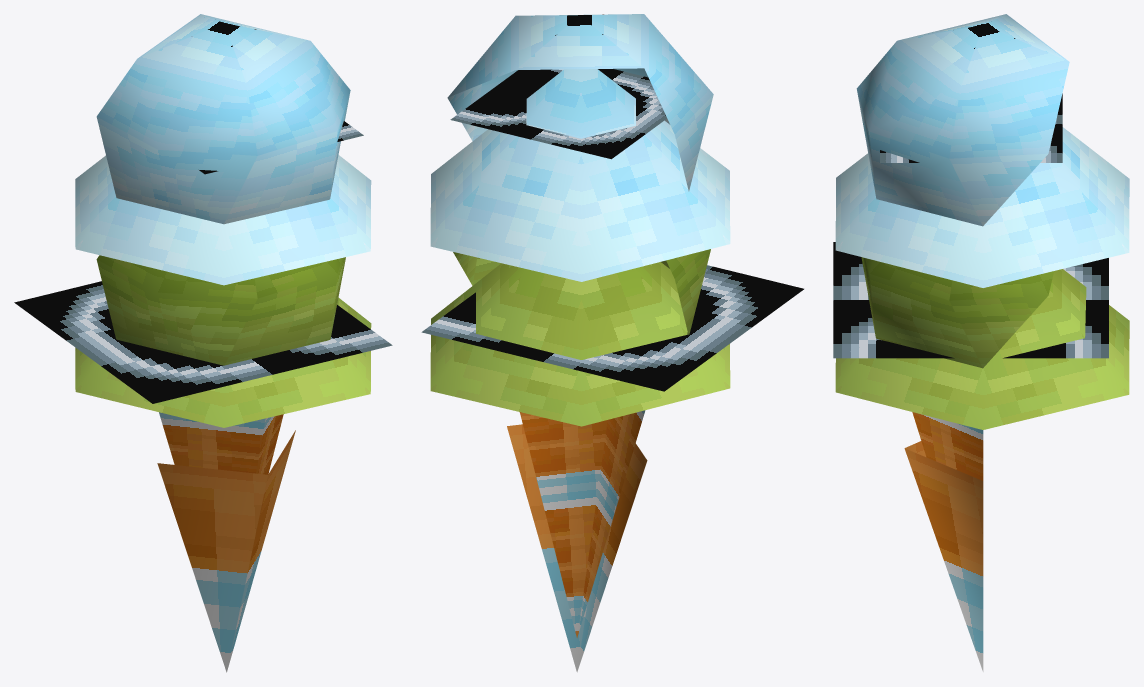
The picture shows the model from 3 angles, left to right: view 1: azimuth 30°, elevation 25°; view 2: azimuth 150°, elevation 25°; view 3: azimuth 270°, elevation 25°; orthographic projection.
Parts seen in each view (by area): view 1: 5619u_ice00_hs; view 2: 5619u_ice00_hs; view 3: 5619u_ice00_hs.
Boxes of the visible parts, <box> form: 5619u_ice00_hs: <box>14,14,392,672</box>; 5619u_ice00_hs: <box>421,14,803,672</box>; 5619u_ice00_hs: <box>833,14,1129,671</box>.
Bounding box in the file's own units: 0.4375 × 0.9199 × 0.3818.
Materials: 6 (6 with a texture image).
